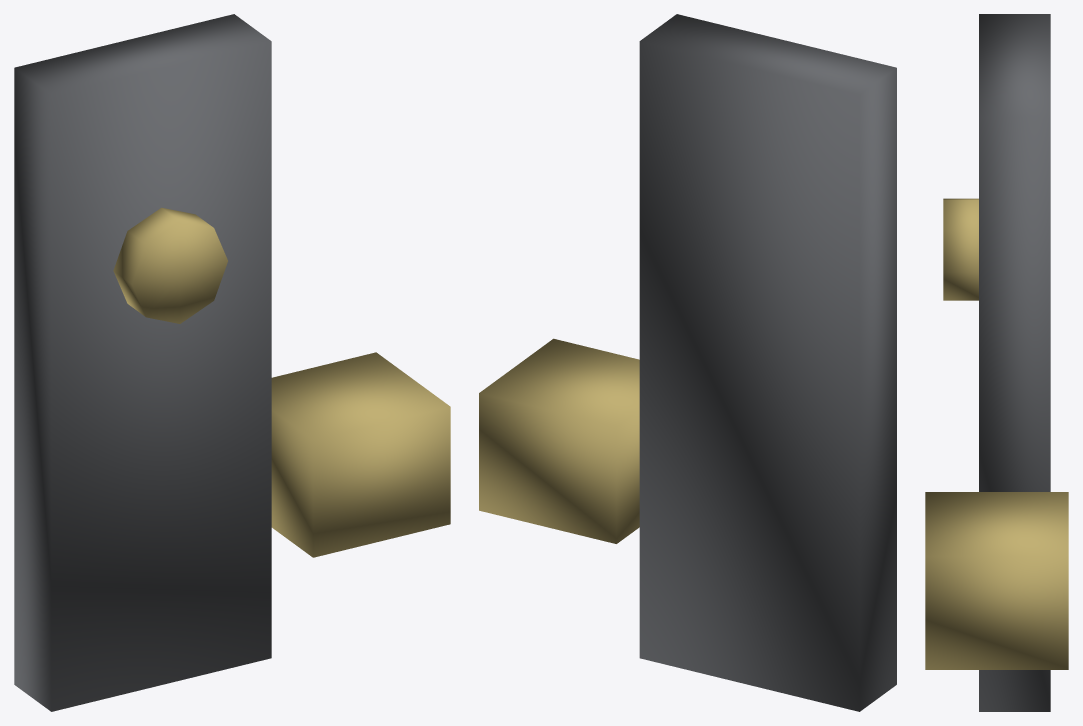
File: elevator_call_02.glb
The picture shows the model from 3 angles, left to right: view 1: azimuth 30°, elevation 25°; view 2: azimuth 150°, elevation 25°; view 3: azimuth 270°, elevation 25°; orthographic projection. The views are drawn at different scales.
Parts seen in each view (by area): view 1: world; view 2: world; view 3: world.
Boxes of the visible parts, x1,y1,x2,y2 form: world: (14, 14, 450, 711); world: (479, 14, 896, 711); world: (925, 14, 1068, 711).
Size of the model in its own units: 0.2592 by 0.4116 by 0.09.
